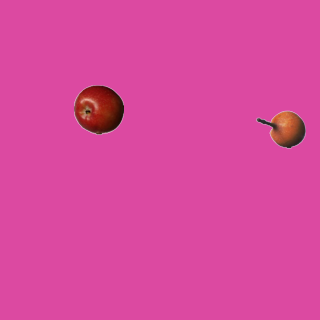Apple Braeburn: (73, 84, 123, 134)
Granadilla: (255, 104, 305, 154)
